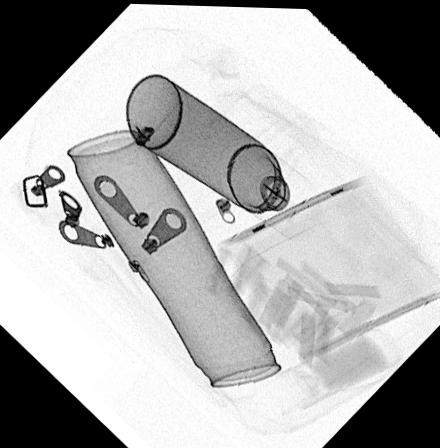Sprayer: (123, 68, 332, 241)
